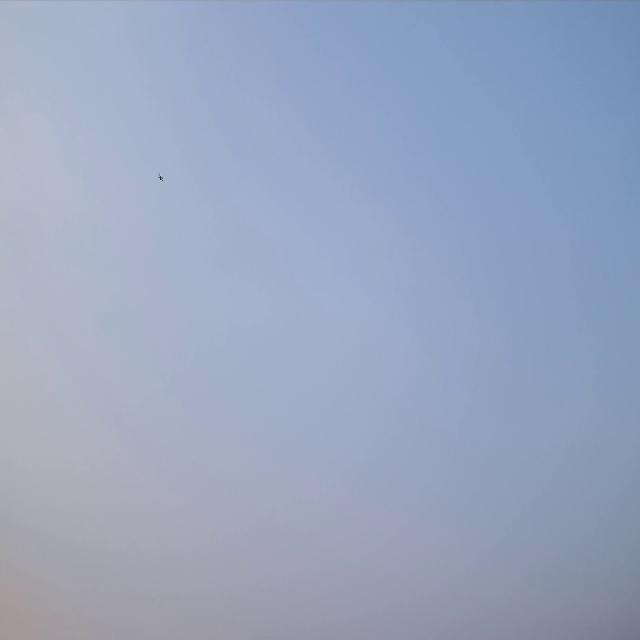UAV: (158, 174, 162, 180)
